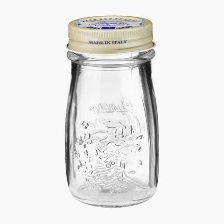bottle: (57, 7, 168, 210)
